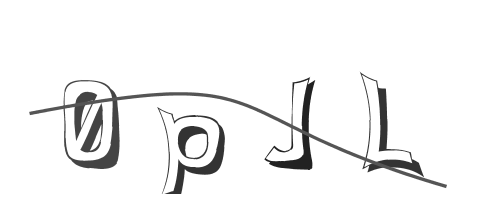0: (59, 73, 120, 169)
J: (262, 76, 317, 178)
L: (348, 69, 423, 179)
p: (153, 101, 228, 200)
